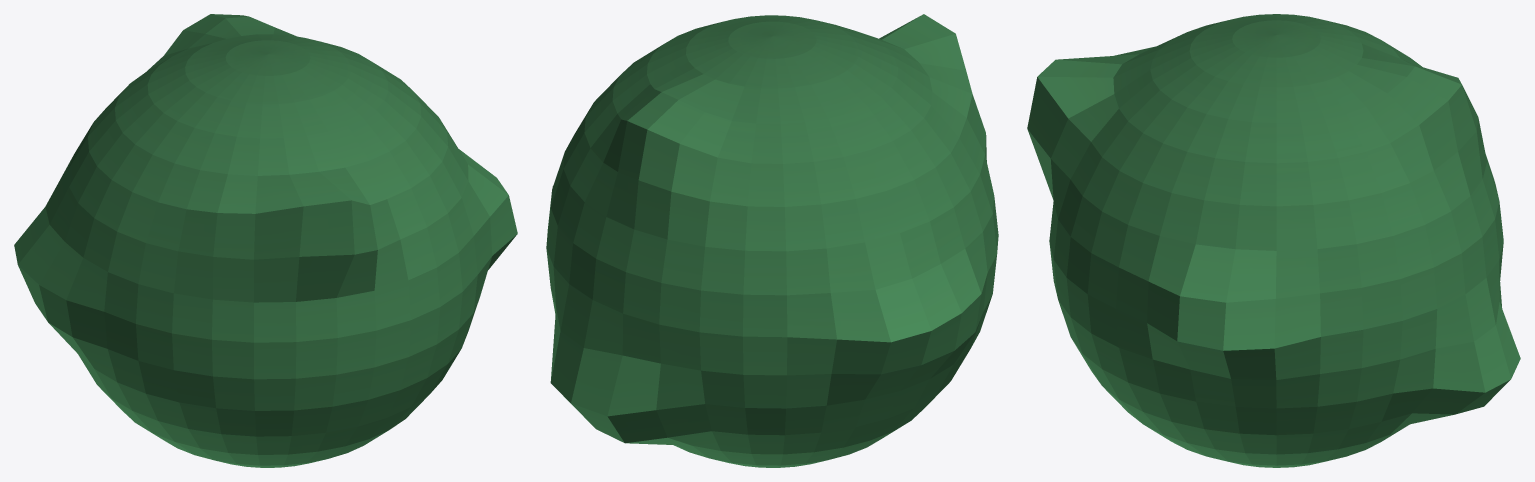
File: planet.glb
3 views of the same model, side by side, from view 1: azimuth 30°, elevation 25°; view 2: azimuth 150°, elevation 25°; view 3: azimuth 270°, elevation 25° (orthographic). The views are drawn at different scales.
Visible parts, largest first — view 1: Sphere; view 2: Sphere; view 3: Sphere.
Boxes of the visible parts, x1,y1,x2,y2 form: Sphere: (14,14,517,467); Sphere: (546,14,998,467); Sphere: (1027,14,1520,467).
Size of the model in its own units: 101 by 89.47 by 97.18.
Materials: 1 (1 with a texture image).
